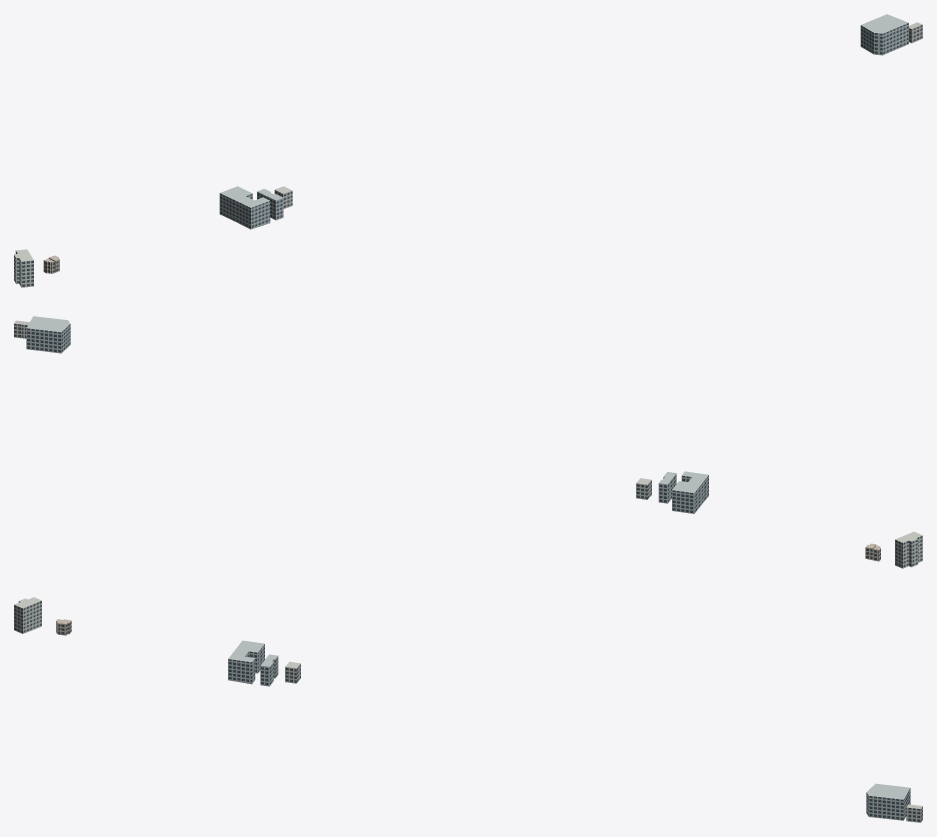
Rendered from city_6_-6.glb.
The picture shows the model from 3 angles, top to bottom: view 1: azimuth 30°, elevation 25°; view 2: azimuth 150°, elevation 25°; view 3: azimuth 330°, elevation 25°; orthographic projection. The views are drawn at different scales.
Size of the model in its own units: 807 by 32.87 by 46.34.
4 materials, 4 textured.
